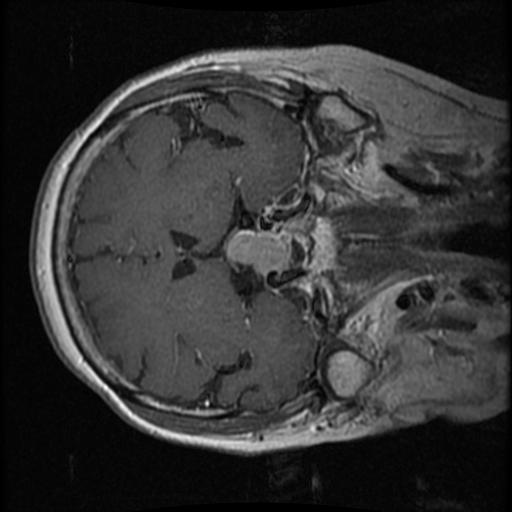pituitary tumour: (224, 228, 290, 273)
